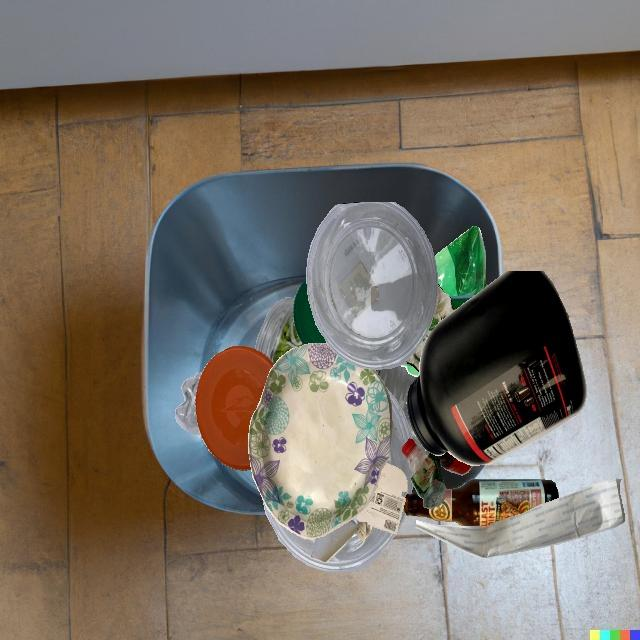cardboard: (248, 343, 392, 539)
glass: (403, 480, 559, 527)
paper: (416, 479, 625, 559), (405, 284, 455, 372), (357, 463, 407, 534), (311, 515, 372, 563)
plastic: (406, 271, 586, 465), (306, 202, 438, 370), (195, 346, 274, 470), (312, 480, 407, 553), (295, 533, 396, 572), (434, 226, 488, 296), (255, 298, 304, 365), (262, 498, 316, 557), (402, 438, 446, 509), (385, 387, 413, 498), (374, 366, 417, 430), (294, 280, 328, 345), (175, 372, 202, 435), (450, 295, 475, 310)
